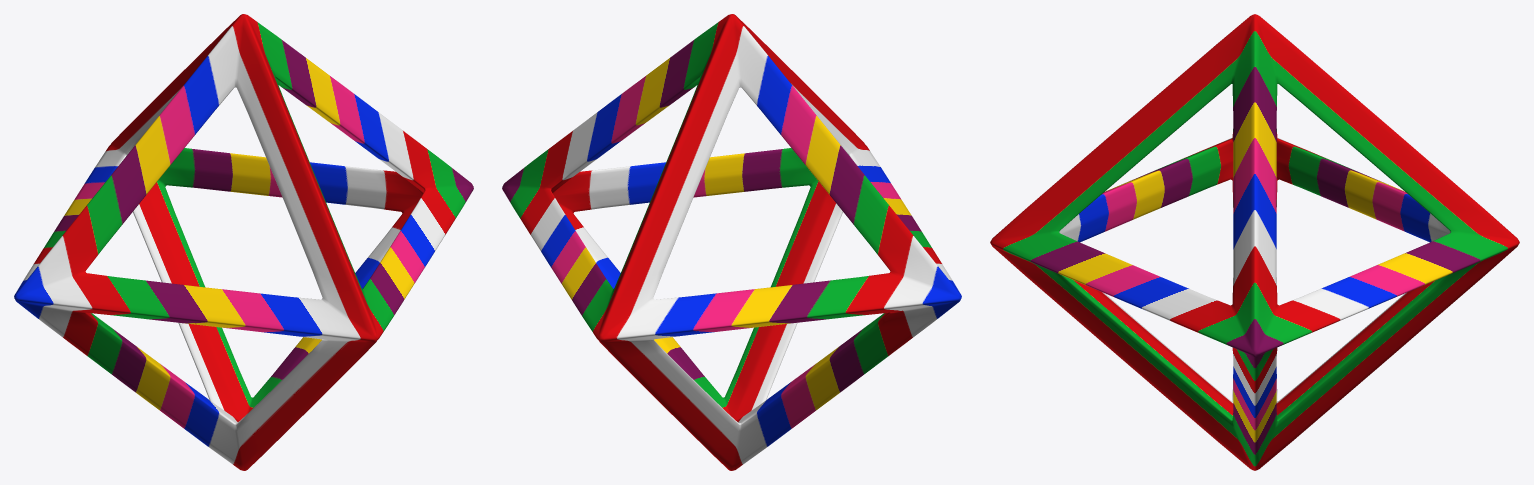
File: A-10_Onstick.fbx
3 views of the same model, side by side, from view 1: azimuth 30°, elevation 25°; view 2: azimuth 150°, elevation 25°; view 3: azimuth 270°, elevation 25° (orthographic).
Visible parts, largest first — view 1: A-10; view 2: A-10; view 3: A-10.
Boxes of the visible parts, x1,y1,x2,y2 form: A-10: (14, 14, 473, 470); A-10: (502, 14, 961, 470); A-10: (990, 14, 1519, 470).
Size of the model in its own units: 130 by 130 by 124.
